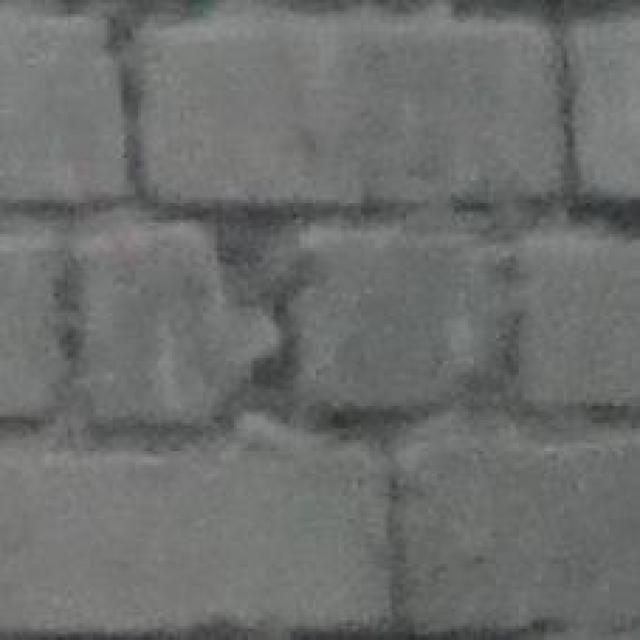Crack: (14, 0, 410, 472)
